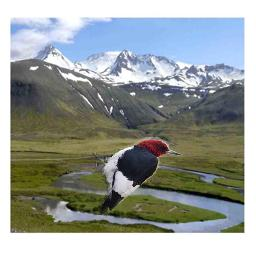Woodpecker: (93, 137, 186, 215)
